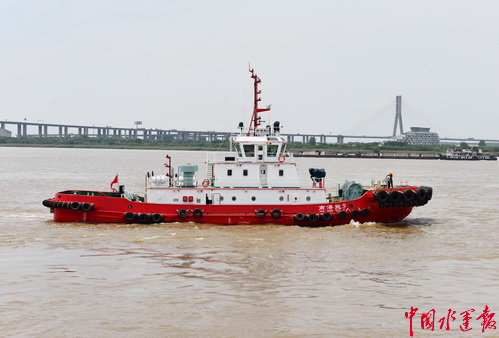otherboat: (41, 88, 435, 222)
